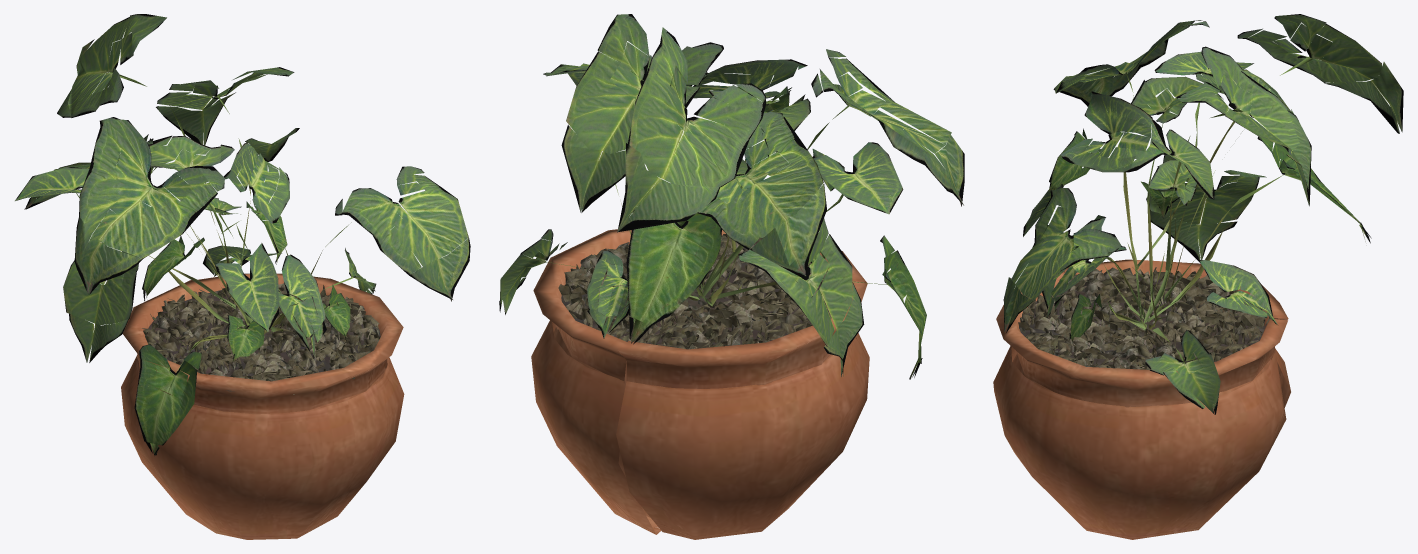
The model's file is ph_potted_plant_02.glb.
3 views of the same model, side by side, from view 1: azimuth 30°, elevation 25°; view 2: azimuth 150°, elevation 25°; view 3: azimuth 270°, elevation 25° (orthographic). The views are drawn at different scales.
Parts seen in each view (by area): view 1: potted_plant_02_pot; view 2: potted_plant_02_pot; view 3: potted_plant_02_pot.
Part boxes in pixels (box(x1,y1,x2,y2)): potted_plant_02_pot: box(15, 14, 470, 539); potted_plant_02_pot: box(499, 14, 964, 539); potted_plant_02_pot: box(993, 14, 1403, 539).
Size of the model in its own units: 0.6967 by 0.8415 by 0.6582.
Materials: 2 (2 with a texture image).
